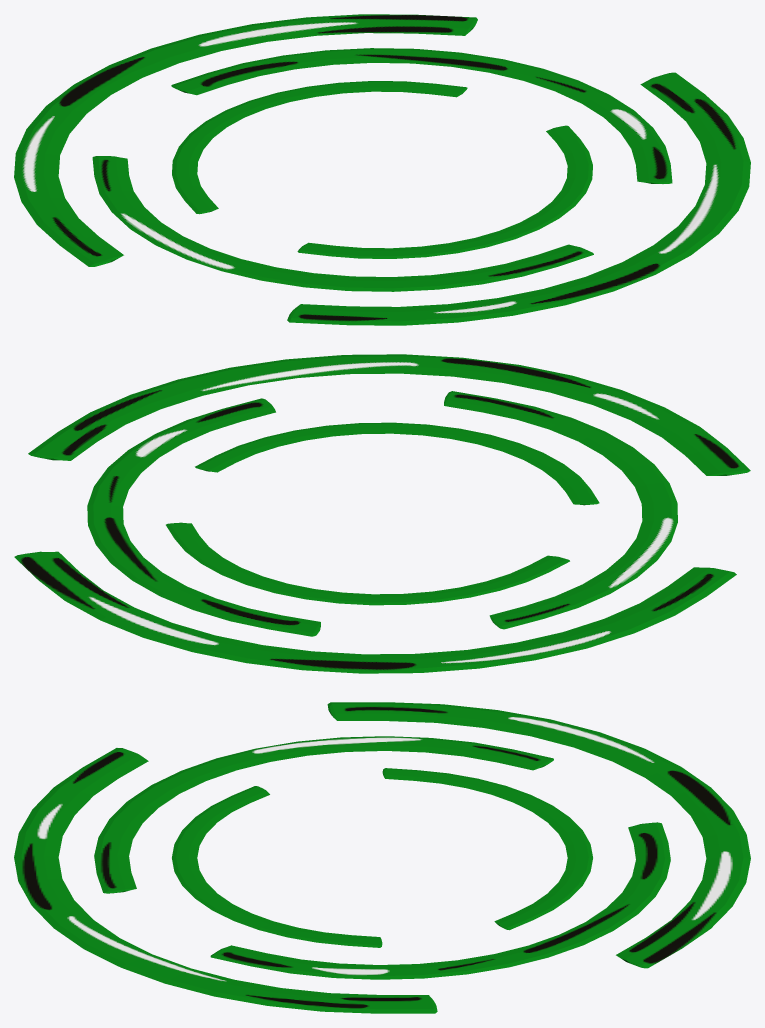
The model's file is SEffect2.obj.
3 views of the same model, one above another, from view 1: azimuth 30°, elevation 25°; view 2: azimuth 150°, elevation 25°; view 3: azimuth 270°, elevation 25° (orthographic). The views are drawn at different scales.
Visible parts, largest first — view 1: pTorus5_initialShadingGroup; view 2: pTorus5_initialShadingGroup; view 3: pTorus5_initialShadingGroup.
Part boxes in pixels (x1,y1,x2,y2): pTorus5_initialShadingGroup: [14, 14, 750, 325]; pTorus5_initialShadingGroup: [14, 354, 750, 673]; pTorus5_initialShadingGroup: [14, 702, 750, 1013].
Size of the model in its own units: 35.43 by 0.1452 by 35.41.
Materials: 1 (1 with a texture image).
